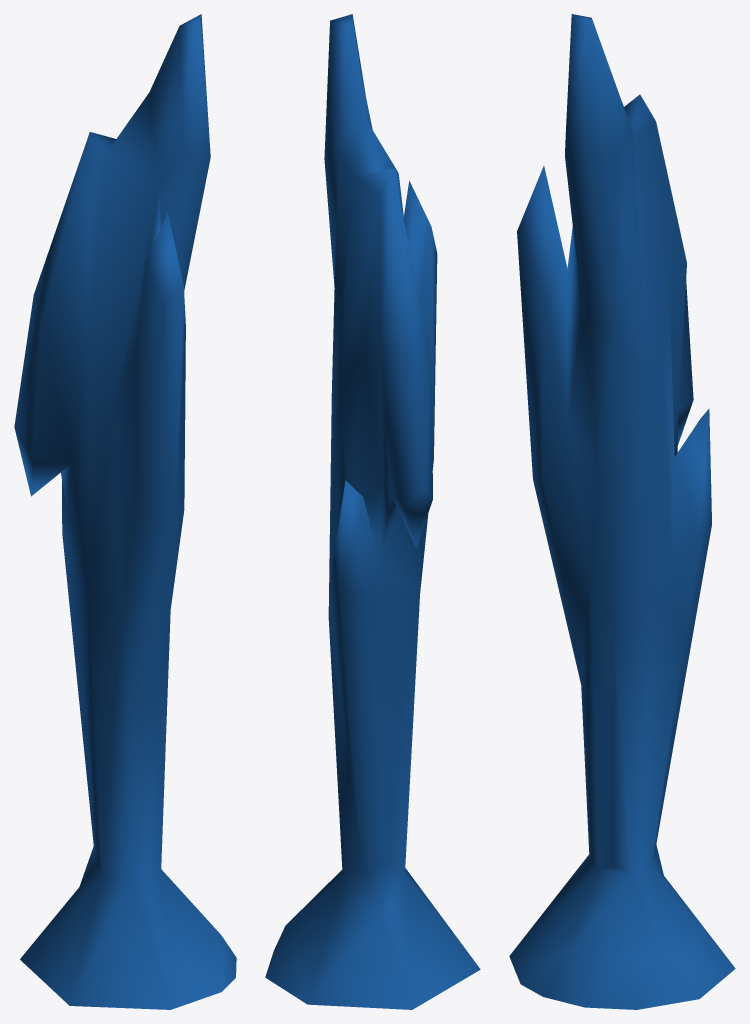
The model's file is effect_splash.obj.
The picture shows the model from 3 angles, left to right: view 1: azimuth 30°, elevation 25°; view 2: azimuth 150°, elevation 25°; view 3: azimuth 270°, elevation 25°; orthographic projection. The views are drawn at different scales.
Parts seen in each view (by area): view 1: effect_splash_Mesh; view 2: effect_splash_Mesh; view 3: effect_splash_Mesh.
Part boxes in pixels (box(x1,y1,x2,y2)): effect_splash_Mesh: box(14, 14, 236, 1009); effect_splash_Mesh: box(265, 14, 480, 1009); effect_splash_Mesh: box(509, 14, 735, 1009).
Size of the model in its own units: 20.19 by 102 by 21.59.
